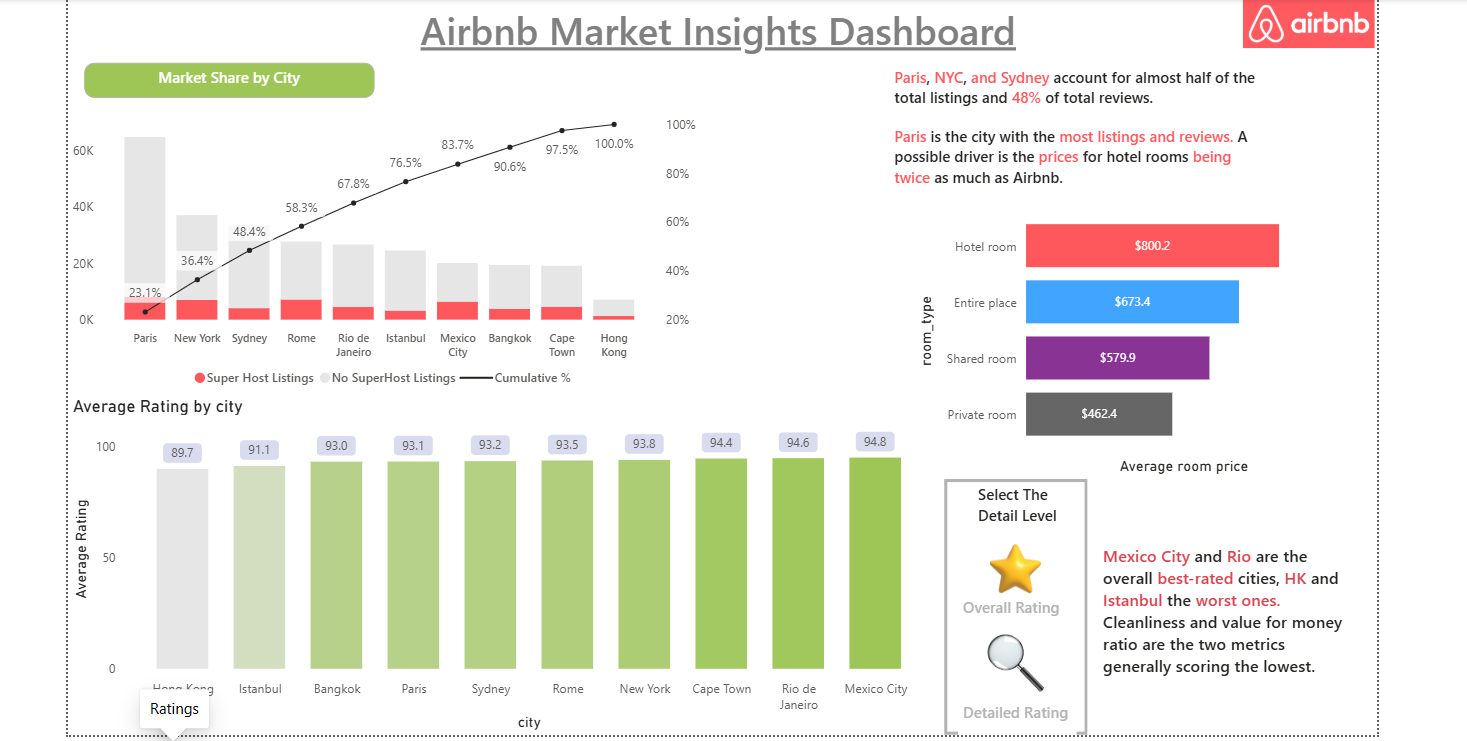

The page's visual inventory and layout, read from the dashboard file:
{"tool":"powerbi","page":{"name":"Ratings","canvas":[1280,720],"ordinal":1},"visuals":[{"type":"textbox","box":[340.3,0,657.3,63.1],"z":0},{"type":"image","box":[884.9,517.7,83.5,79.6],"z":0,"group":"g1"},{"type":"image","box":[892.7,616,69.2,66.6],"z":0,"group":"g2"},{"type":"image","box":[1147.2,0,133.1,48],"z":1000},{"type":"textbox","box":[870.5,580.3,116.2,35.2],"z":1000,"group":"g1"},{"type":"textbox","box":[870.5,682.6,116.2,37.8],"z":1000,"group":"g2"},{"type":"textbox","box":[15.4,62.9,283.8,34.7],"z":2000},{"type":"lineStackedColumnComboChart","fields":{"Category":["Listings.city"],"Y":["Listings.Super Host Listings","Listings.No SuperHost Listings"],"Y2":["Listings.Cumulative %"]},"box":[0,106.6,620.2,282.5],"z":3000},{"type":"barChart","fields":{"Category":["Listings.room_type"],"Y":["Listings.Average room price"]},"box":[827.1,166.3,425.1,303.7],"z":4000},{"type":"textbox","box":[803.9,61.6,363.4,142.5],"z":5000},{"type":"shape","box":[857.5,470,140.3,250.2],"z":6000},{"type":"textbox","box":[885,470,182.2,57.8],"z":7000},{"type":"pivotTable","fields":{"Rows":["Listings.city"],"Values":["Listings.Accuracy","Listings.Communication","Listings.Cleanliness","Listings.Location","Listings.Value"]},"box":[0,413.6,851.7,306.6],"z":8000},{"type":"group","id":"g1","title":"Group 1","box":[870.5,517.7,115.7,96.9],"z":10000},{"type":"group","id":"g2","title":"Group 2","box":[870.5,616,115.7,104.1],"z":11000},{"type":"textbox","box":[1007.9,527.8,255.9,157.6],"z":12000}]}

Visuals, with their boxes on the page's 1280x720 design canvas (x1, y1, x2, y2). These are canvas units, not pixel positions in the 1467x741 screenshot, which may show the page scaled, cropped or inside an application window:
textbox: (x1=340, y1=0, x2=998, y2=63)
image: (x1=885, y1=518, x2=968, y2=597)
image: (x1=893, y1=616, x2=962, y2=683)
image: (x1=1147, y1=0, x2=1280, y2=48)
textbox: (x1=870, y1=580, x2=987, y2=616)
textbox: (x1=870, y1=683, x2=987, y2=720)
textbox: (x1=15, y1=63, x2=299, y2=98)
lineStackedColumnComboChart - Listings.city x Listings.Super Host Listings: (x1=0, y1=107, x2=620, y2=389)
barChart - Listings.room_type x Listings.Average room price: (x1=827, y1=166, x2=1252, y2=470)
textbox: (x1=804, y1=62, x2=1167, y2=204)
shape: (x1=858, y1=470, x2=998, y2=720)
textbox: (x1=885, y1=470, x2=1067, y2=528)
pivotTable - Listings.city x Listings.Accuracy: (x1=0, y1=414, x2=852, y2=720)
"Group 1" group: (x1=870, y1=518, x2=986, y2=615)
"Group 2" group: (x1=870, y1=616, x2=986, y2=720)
textbox: (x1=1008, y1=528, x2=1264, y2=685)
